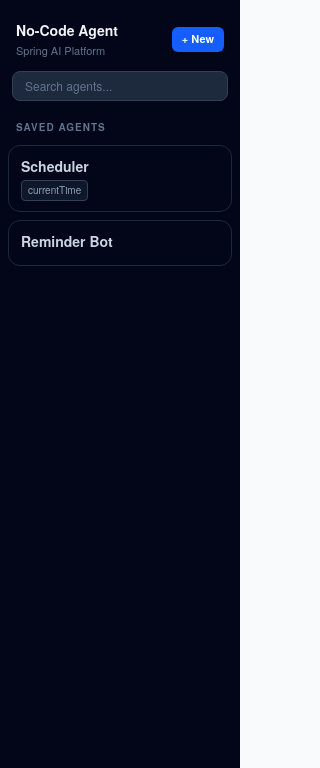
Test: shows empty message when no agents match search
This screenshot has width=320, height=768.
Type "zzz" into the field with placeholder "Search agents...".
click(120, 86); type("zzz")  # box x1=12 y1=70 x2=228 y2=100
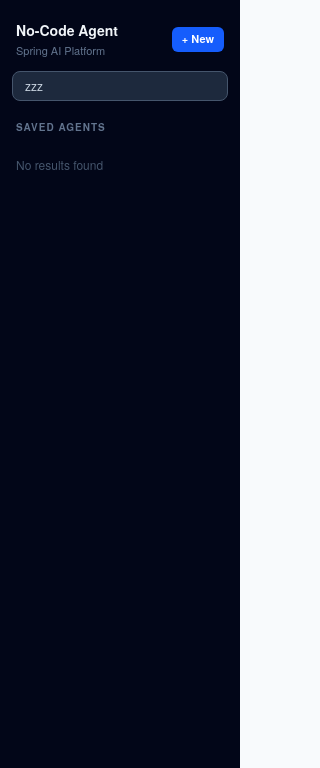
Expected: the text "No results found" is shown, x1=16 y1=156 x2=103 y2=172
